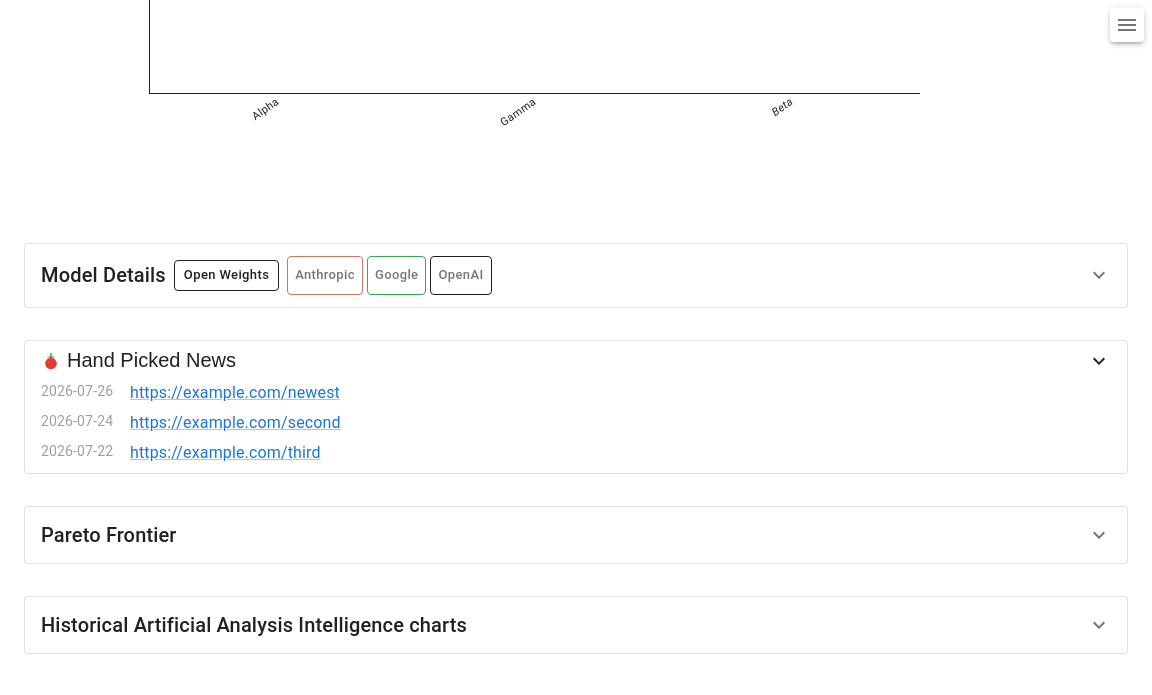
it: Dashboard › shows Hand Picked News collapsed by default with the top 3 links visible, expanding to reveal the rest
(page scrolled)
Expected: the element "Hand Picked News" is shown, [24,340,1128,474]
Expected: the 4th icon is shown, [41,351,61,371]
Note: Expanding reveals the remaining entries after the preview
Click the button "Hand Picked News" at [151, 360], box [25,341,1127,381]
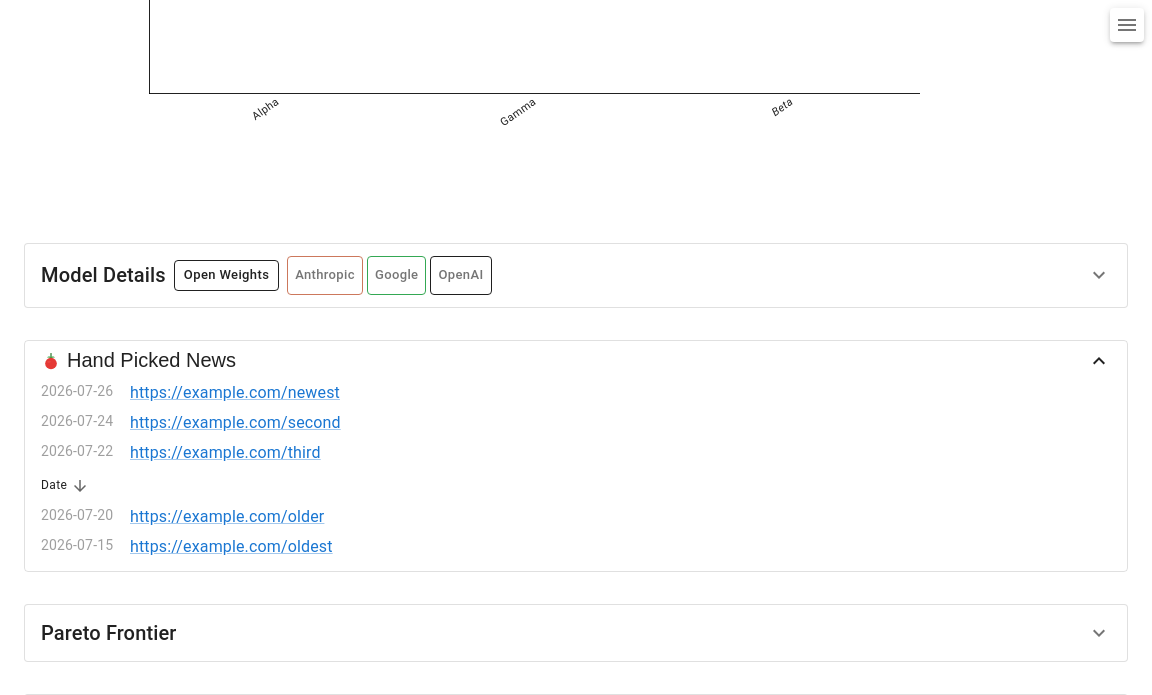
Now the button "Hand Picked News" is expanded
Now the list item "2026-07-20 https://example.com/older" is shown, box [41,507,324,526]
Now the list item "2026-07-15 https://example.com/oldest" is shown, box [41,537,333,556]
Note: Collapsing returns to the top-3 preview (after the collapse transition)
Click the button "Hand Picked News" at [151, 360], box [25,341,1127,381]
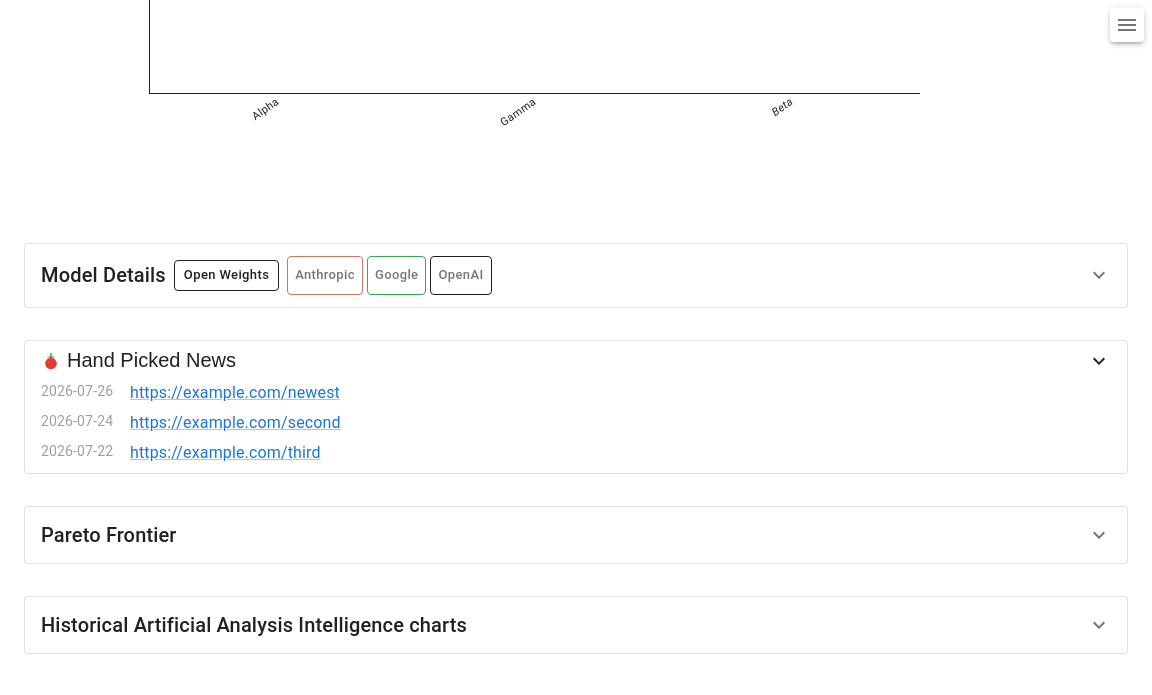
Now the button "Hand Picked News" is collapsed, box [25,341,1127,381]
